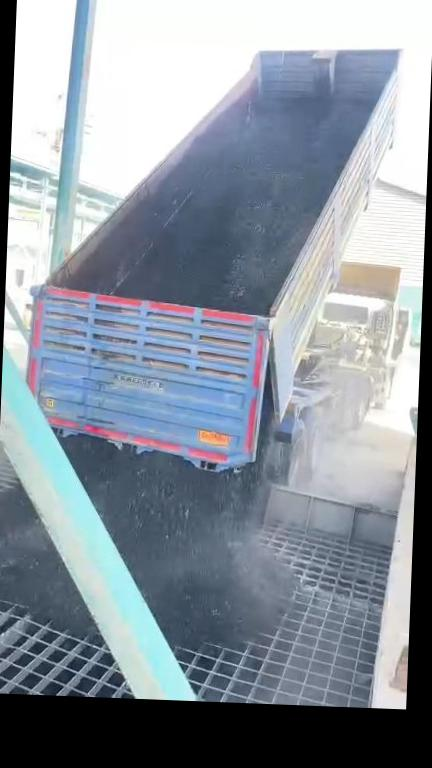gravel: (119, 96, 368, 314), (66, 435, 288, 642), (0, 517, 87, 631)
